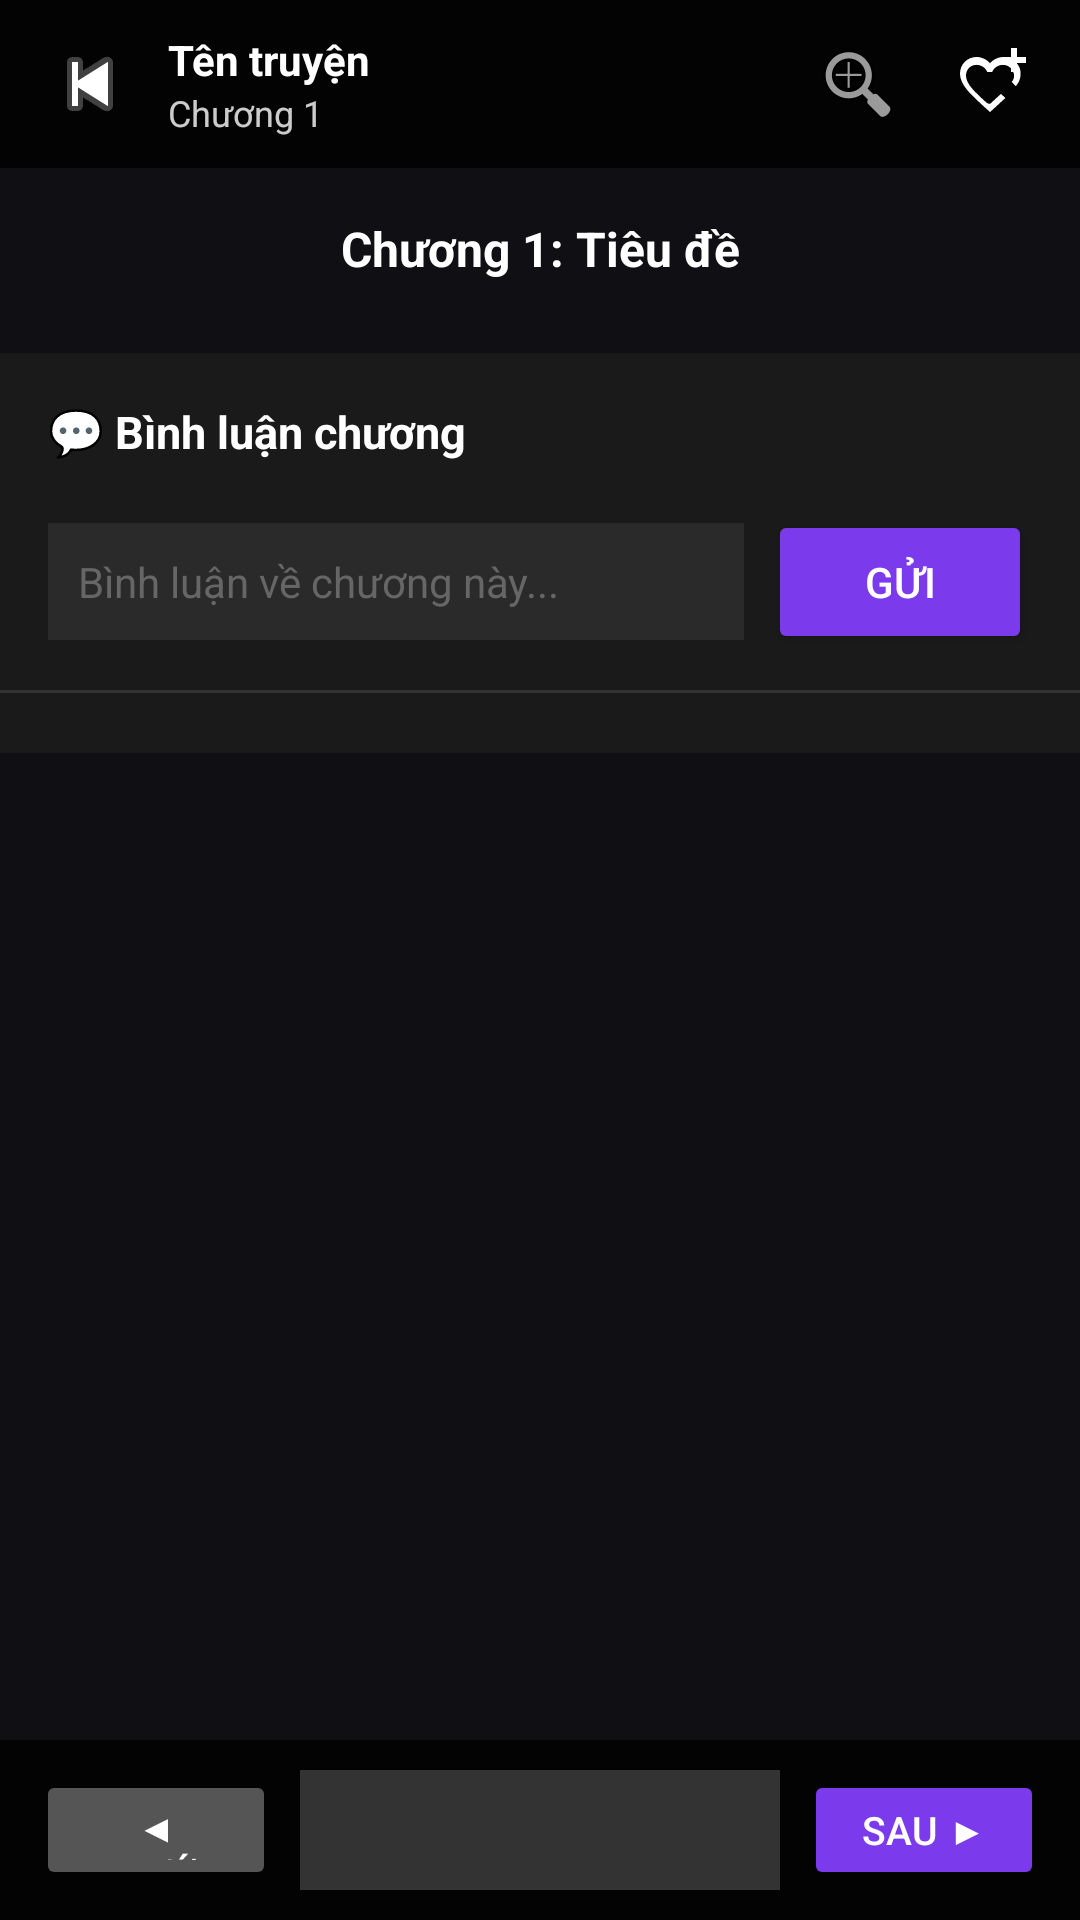

Point at icon controls on the screen. Image size 1080 x 1920, points as (x=x, y=y).
heart plus: (x=993, y=80)
previous: (x=90, y=84)
zoom: (x=858, y=84)
